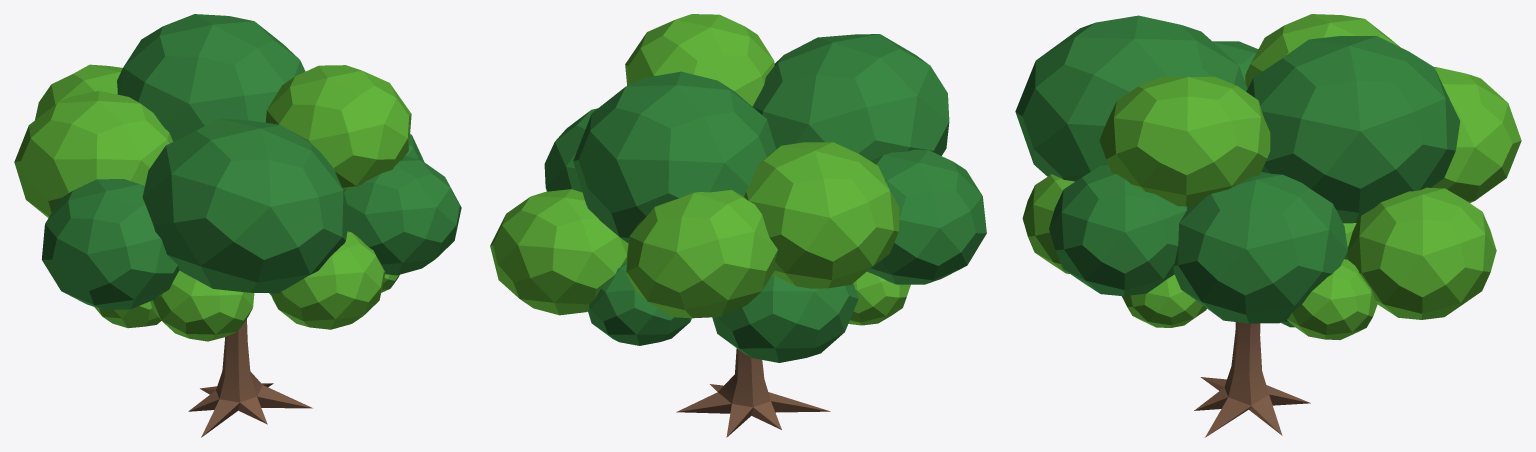
File: obj_bigtree.fbx
3 renders of one model, left to right at view 1: azimuth 30°, elevation 25°; view 2: azimuth 150°, elevation 25°; view 3: azimuth 270°, elevation 25°, orthographic. The views are drawn at different scales.
Parts seen in each view (by area): view 1: obj_bigtree; view 2: obj_bigtree; view 3: obj_bigtree.
Boxes of the visible parts, x1,y1,x2,y2 form: obj_bigtree: (14,14,461,437); obj_bigtree: (490,14,986,437); obj_bigtree: (1015,14,1521,437).
Size of the model in its own units: 10.47 by 8.95 by 10.98.
Materials: 1 (1 with a texture image).
